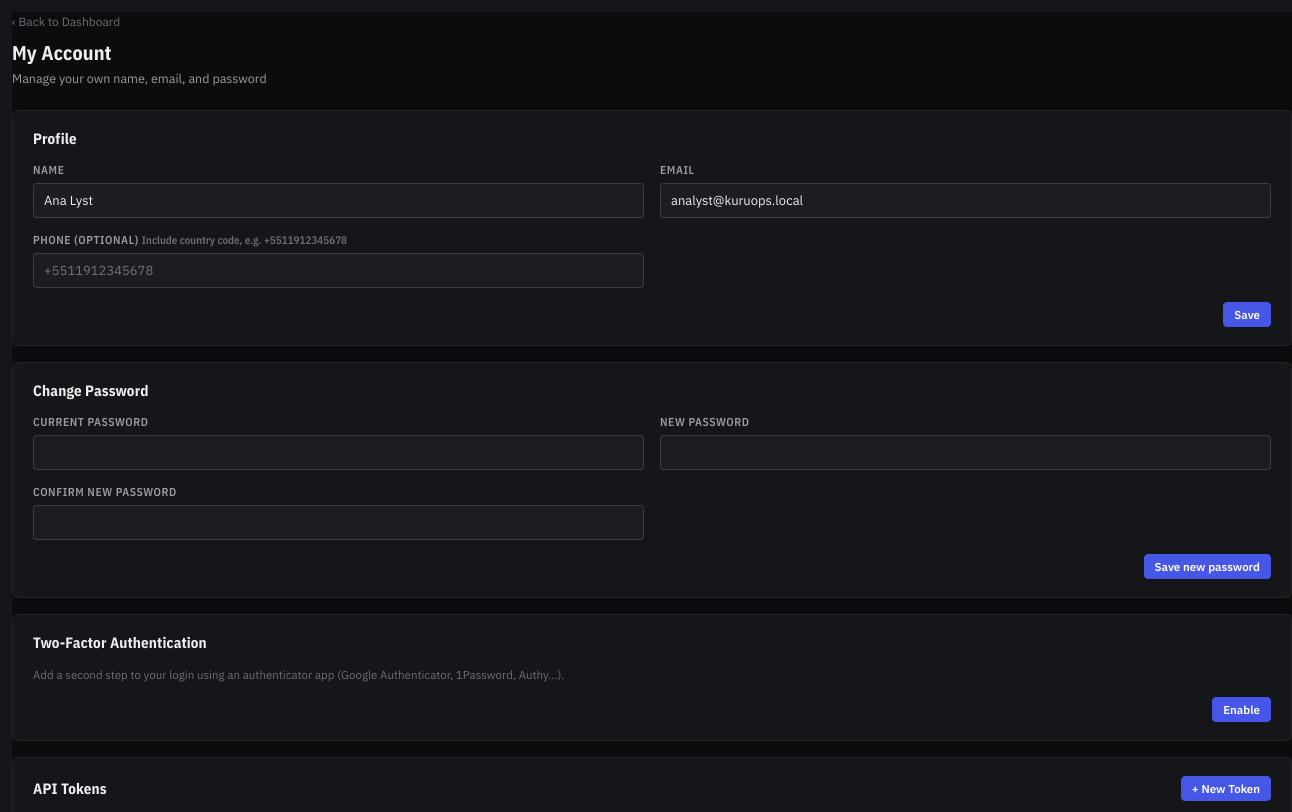
Scenario: ProfilePage › shows the server's error message when an invalid phone is rejected
The width and height of the screenshot is (1292, 812).
Type "5511912345678" into the field labelled "Phone (optional) Include country code, e.g. +5511912345678" at (338,270), box [33,253,644,288]
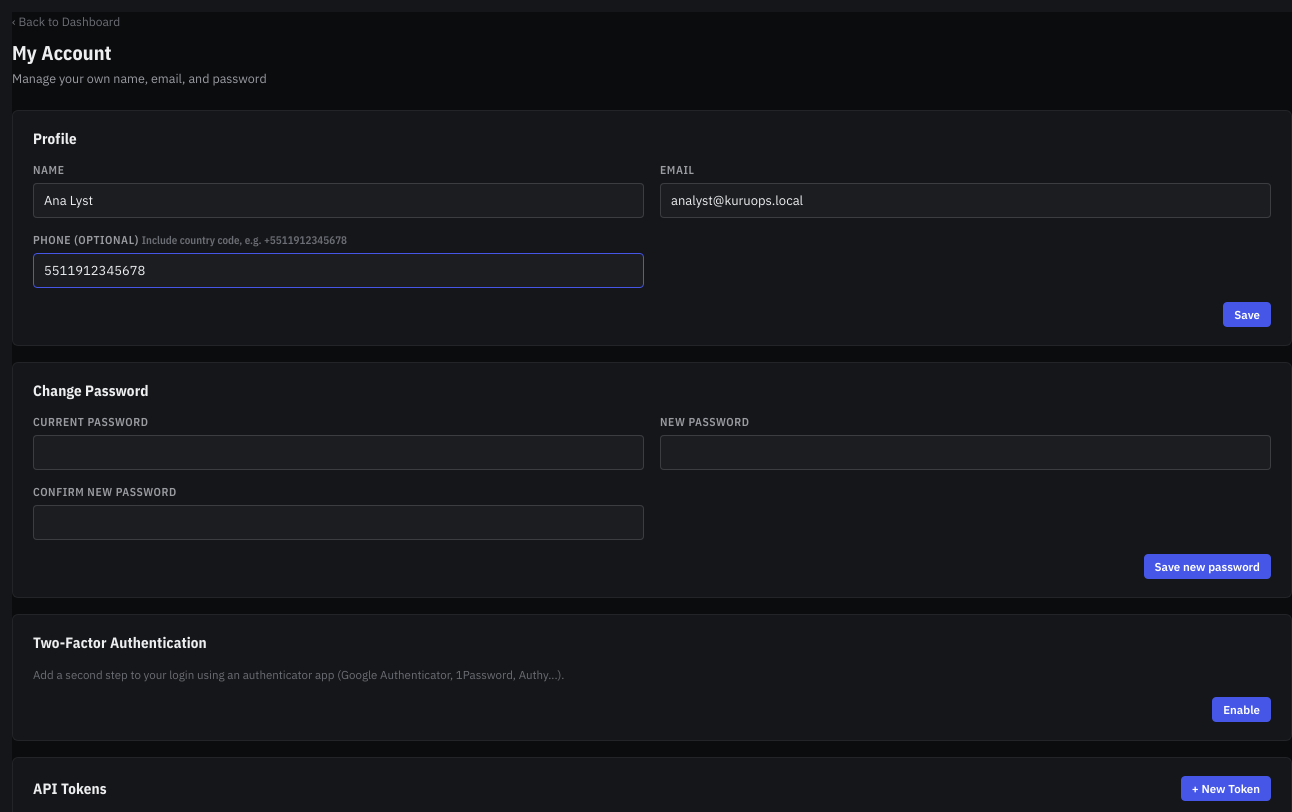
Click the button "Save" at (1247,314), box [1223,302,1271,327]
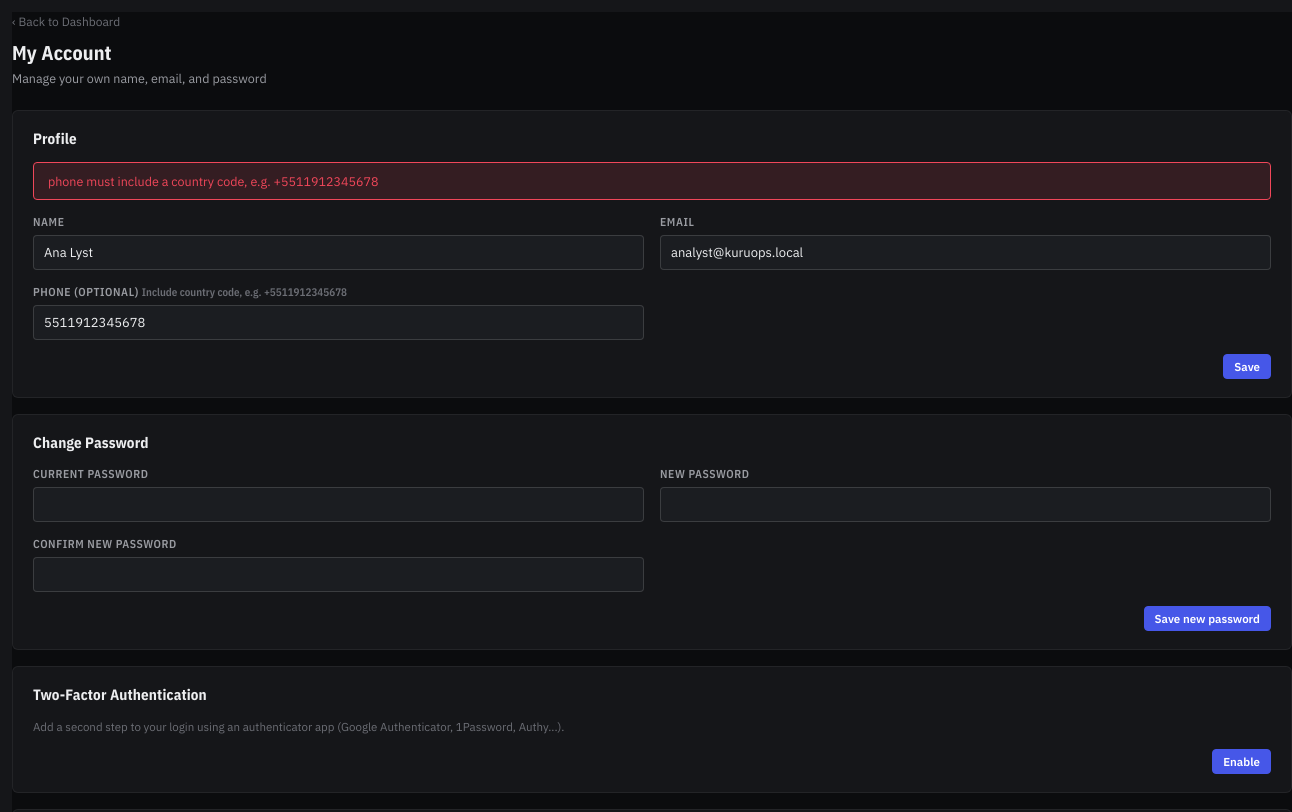
Now the text "phone must include a country code, e.g. +5511912345678" is shown, box [33,162,1271,200]
